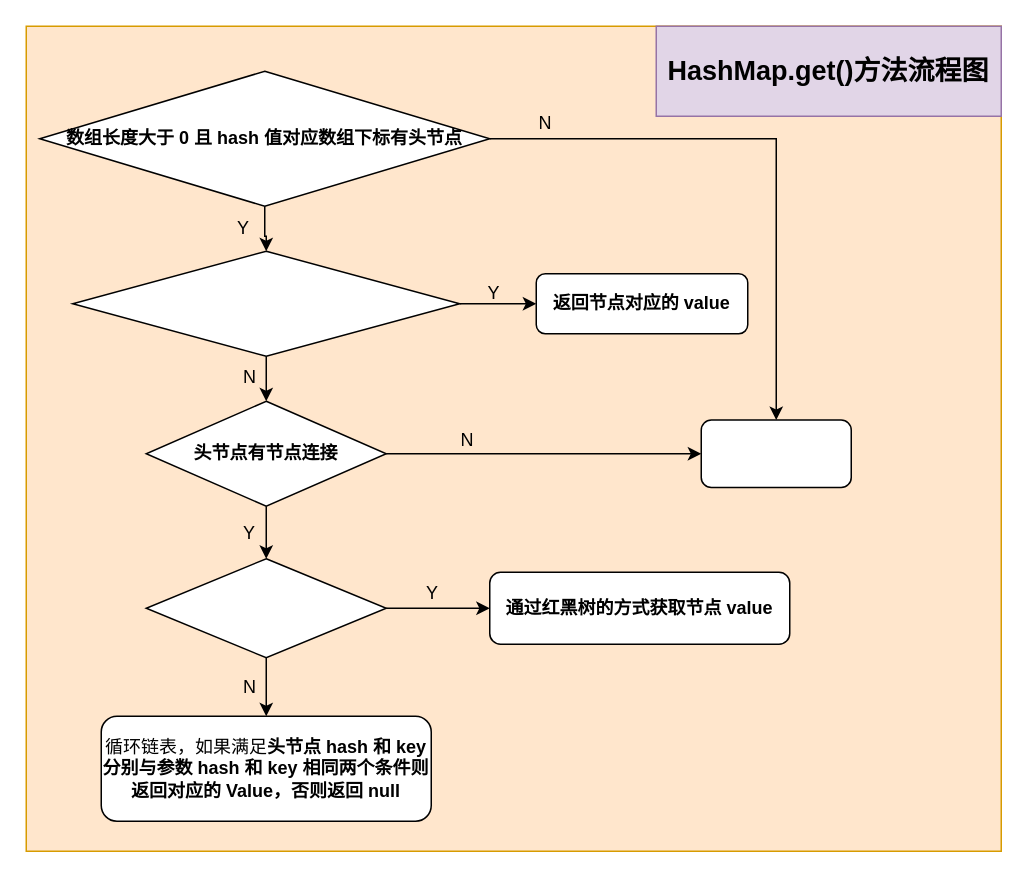
This 1028x878 diagram has some shape labels left out. The centre of each missing label's shape, as x and y in pixels:
"return null" goes at (x=775, y=453).
"头节点 hash 和 key 分别 与参数 hash 和 key 相同" goes at (x=265, y=303).
"连接节点是红黑树结构" goes at (x=265, y=607).
